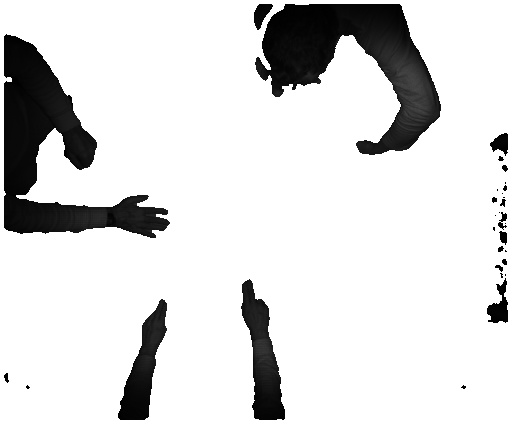fist: (64, 126, 103, 175), (352, 135, 379, 159)
hand: (116, 192, 175, 239), (240, 272, 271, 337), (136, 296, 167, 352)
